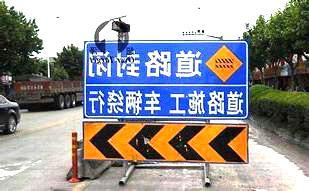sign: (83, 42, 249, 165)
